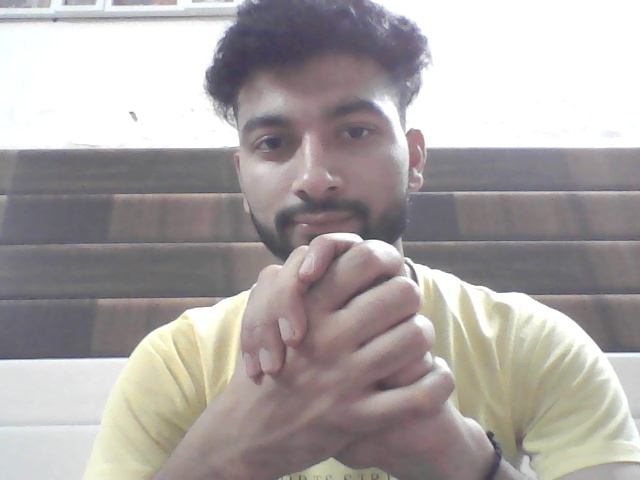Thank You: (202, 233, 485, 480)
